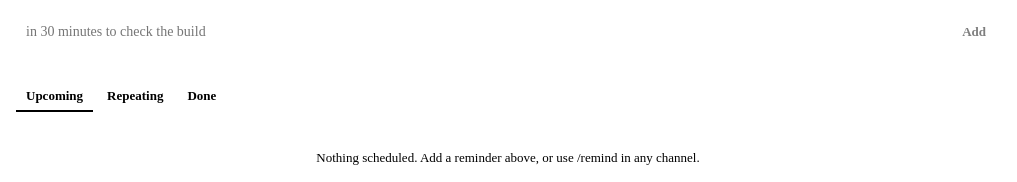
it: RemindersSidebar › quick add › is disabled until something is typed
expect the text "Nothing scheduled" is shown: met, box [316,150,700,165]
expect the button "Add" is disabled: met, box [948,16,1000,48]
In the field named "Remind me": (478, 32) [16,16,940,48], type "in 30 minutes to stretch"
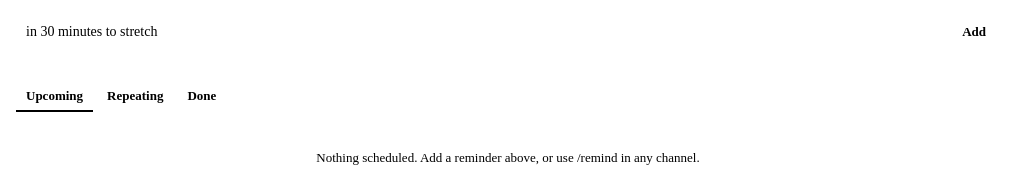
expect the button "Add" is enabled: met, box [948,16,1000,48]
